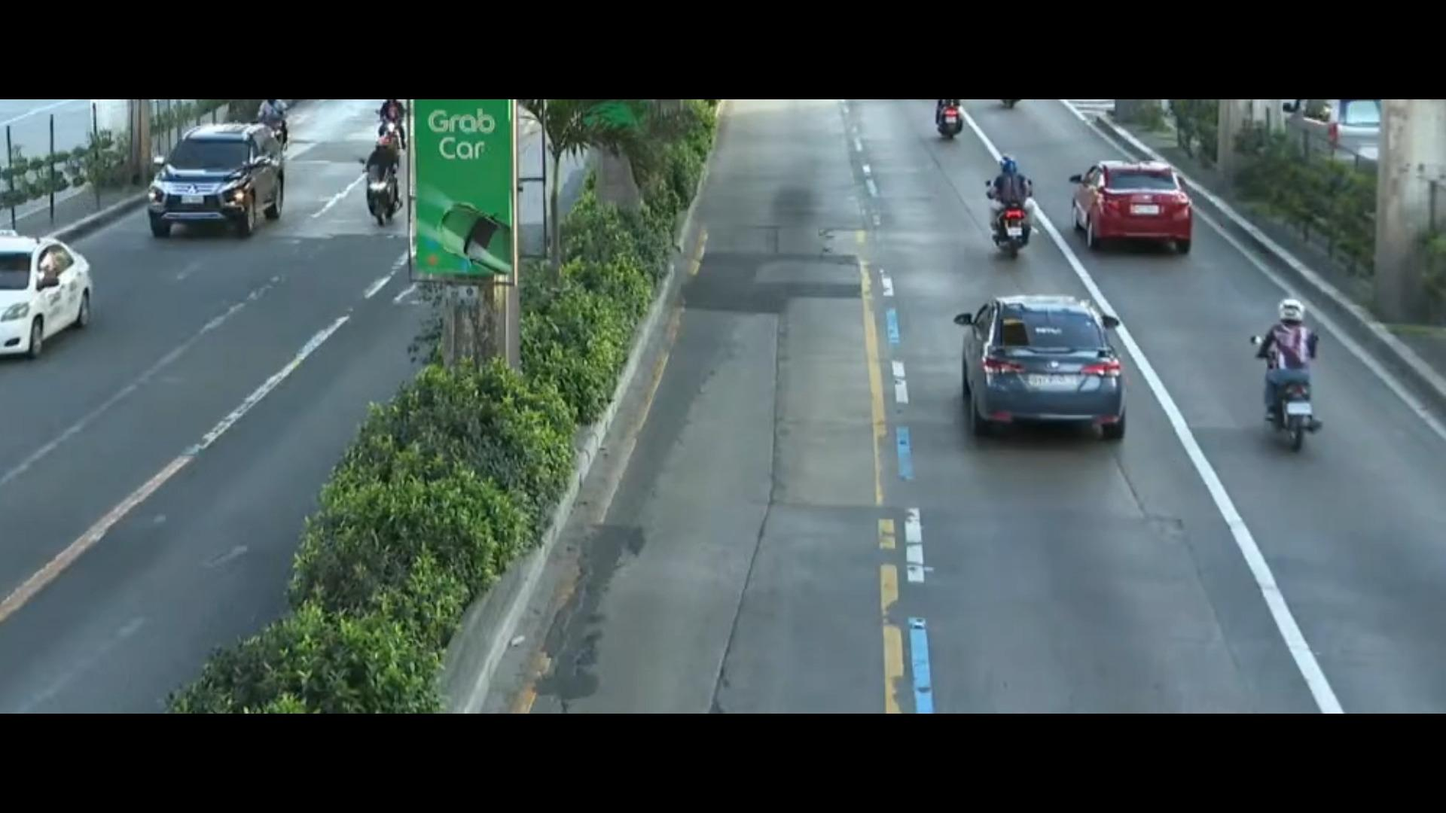Motorcycle: (1203, 284, 1361, 478), (969, 144, 1045, 262), (354, 146, 411, 228), (923, 101, 985, 147), (256, 96, 312, 143), (382, 96, 409, 147)
SUV: (131, 123, 297, 254)
Sedan: (939, 294, 1150, 450), (1058, 154, 1213, 270), (0, 234, 101, 378)
